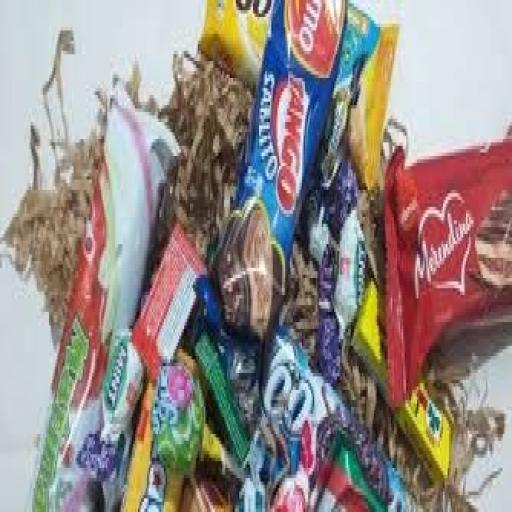merendina: (360, 126, 512, 410)
